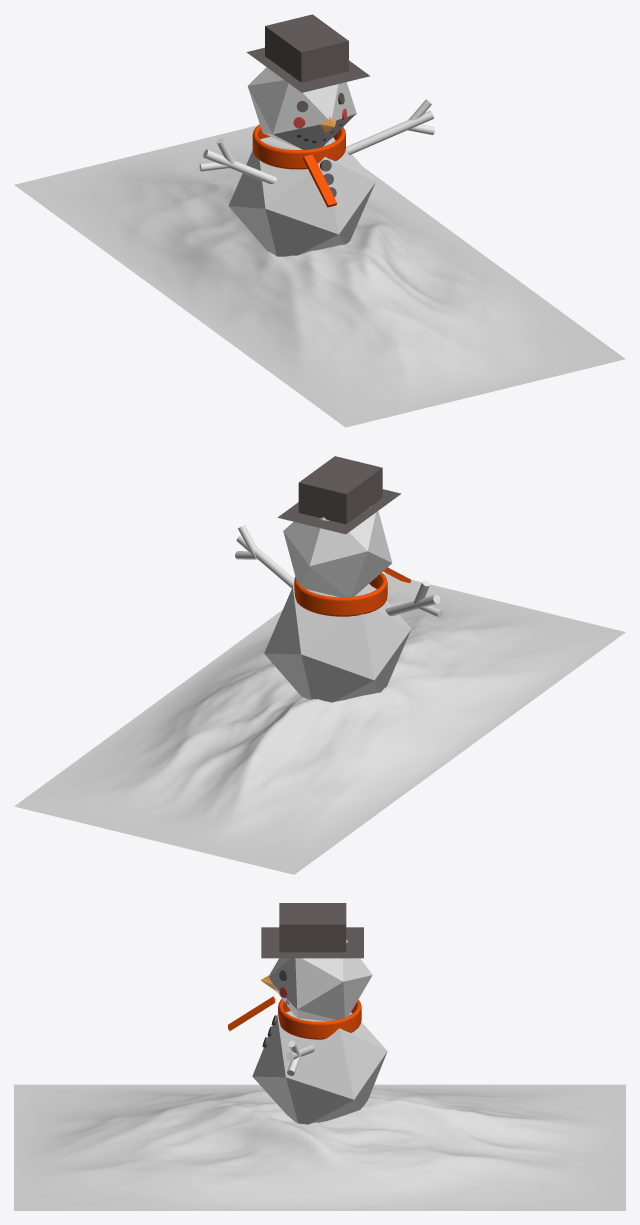
Rendered from muneco_de_nieve.glb.
3 renders of one model, top to bottom at view 1: azimuth 30°, elevation 25°; view 2: azimuth 150°, elevation 25°; view 3: azimuth 270°, elevation 25°, orthographic. The views are drawn at different scales.
Visible parts, largest first — view 1: Object_7, Object_6, Object_5, Object_9, Object_2, Object_3; view 2: Object_7, Object_6, Object_5, Object_2, Object_9; view 3: Object_7, Object_6, Object_5, Object_2, Object_9.
Part boxes in pixels (x1,y1,x2,y2): Object_7: [14, 125, 625, 427]; Object_6: [228, 67, 375, 256]; Object_5: [246, 14, 370, 197]; Object_9: [199, 99, 434, 183]; Object_2: [252, 124, 345, 169]; Object_3: [303, 154, 337, 207]; Object_7: [14, 572, 625, 874]; Object_6: [264, 507, 411, 702]; Object_5: [278, 456, 400, 534]; Object_2: [294, 572, 387, 616]; Object_9: [235, 525, 443, 617]; Object_7: [14, 1084, 625, 1210]; Object_6: [252, 939, 387, 1124]; Object_5: [261, 903, 363, 1047]; Object_2: [278, 999, 361, 1039]; Object_9: [286, 1040, 315, 1075].
Bounding box in the file's own units: 432 × 361 × 885.
